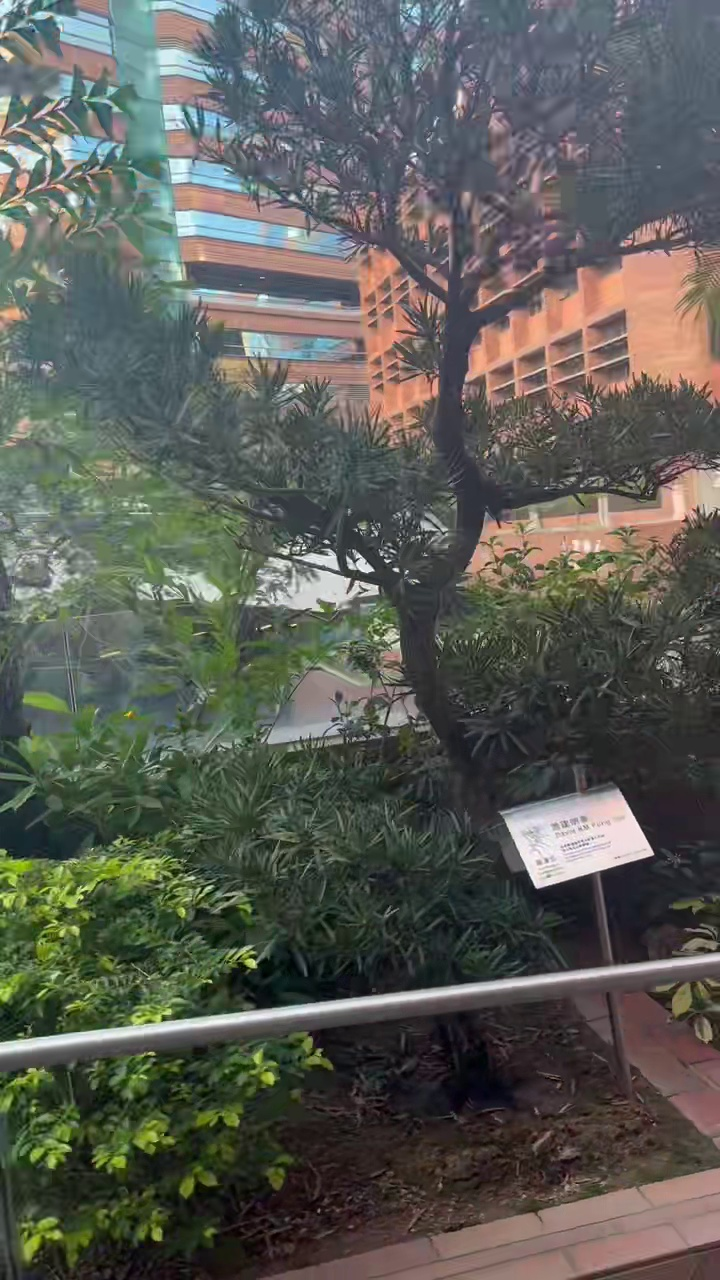Podocarpus macrophyllus: (17, 0, 719, 784)
